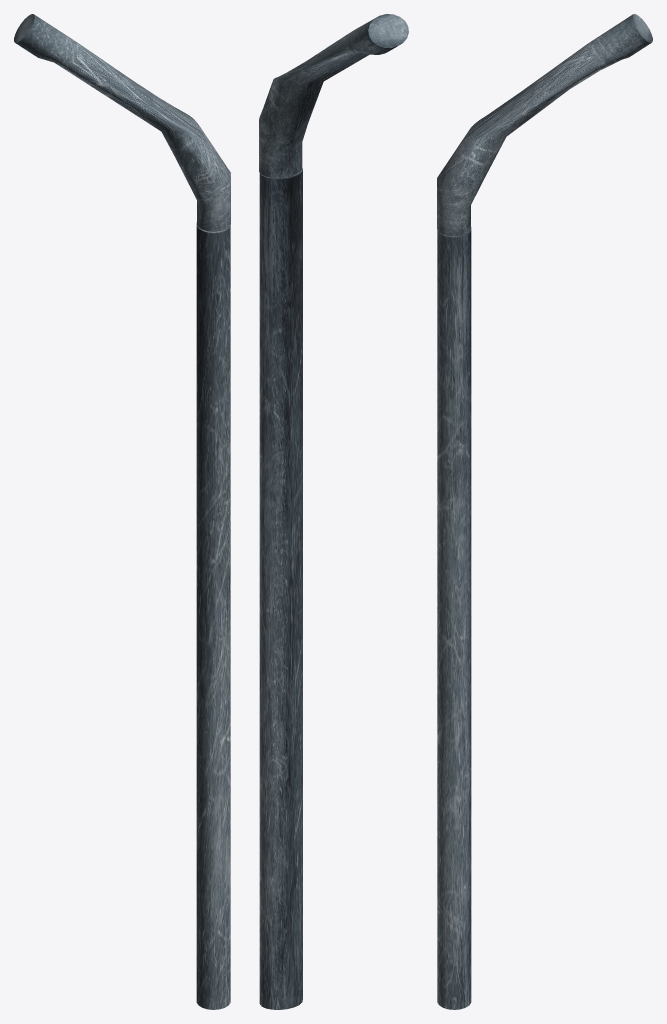
The model's file is Lampara2.FBX.
3 renders of one model, left to right at view 1: azimuth 90°, elevation 25°; view 2: azimuth 210°, elevation 25°; view 3: azimuth 270°, elevation 25°, orthographic. The views are drawn at different scales.
Visible parts, largest first — view 1: Cylinder002; view 2: Cylinder002; view 3: Cylinder002.
Boxes of the visible parts, x1,y1,x2,y2 form: Cylinder002: [14, 14, 230, 1009]; Cylinder002: [259, 14, 408, 1009]; Cylinder002: [437, 14, 652, 1009].
Bounding box in the file's own units: 30.98 × 682 × 136.
